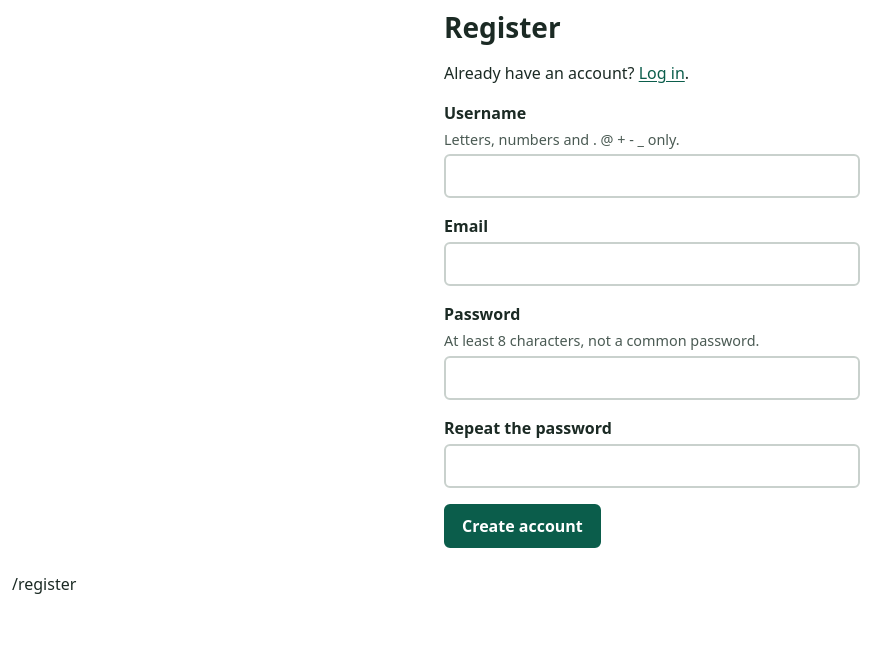
Test: Register page › says when the passwords differ, and when the password is too short
This screenshot has width=882, height=667.
Type "ronel" into the field labelled "Username" at (652, 176), box [444,154,860,198]
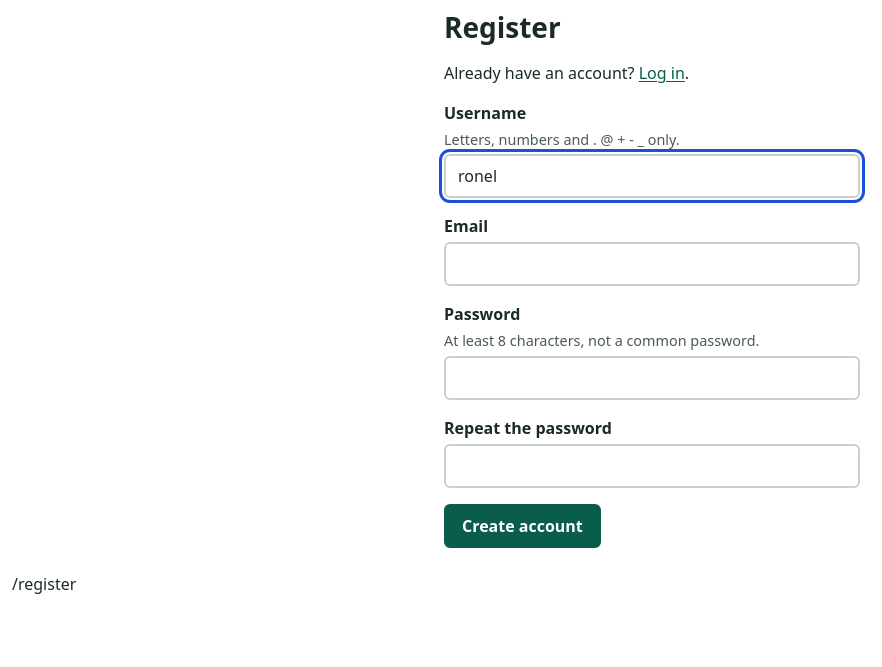
Type "ronel@example.com" into the field labelled "Email" at (652, 264), box [444,242,860,286]
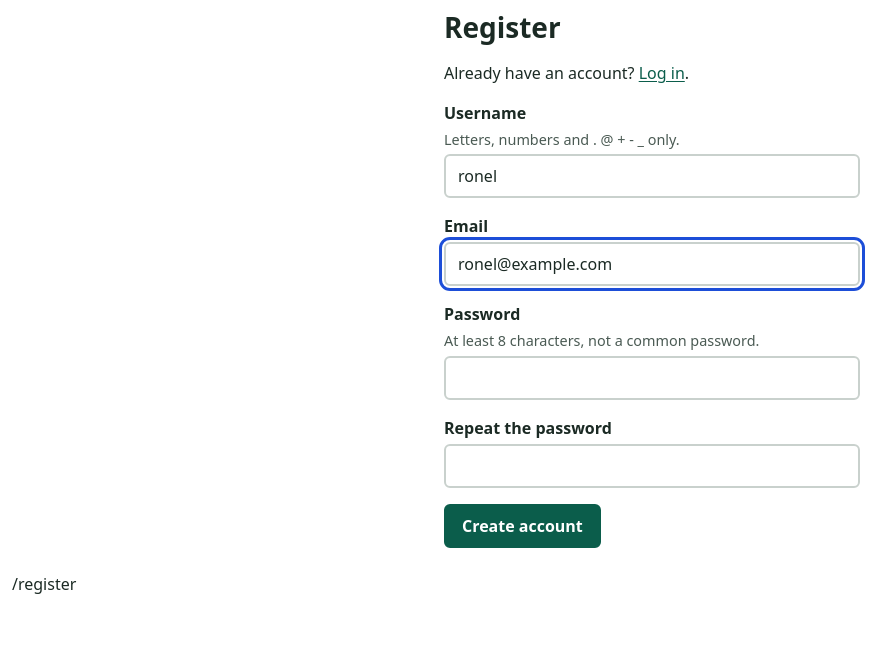
Type "short" into the password field labelled "Password" at (652, 378), box [444,356,860,400]
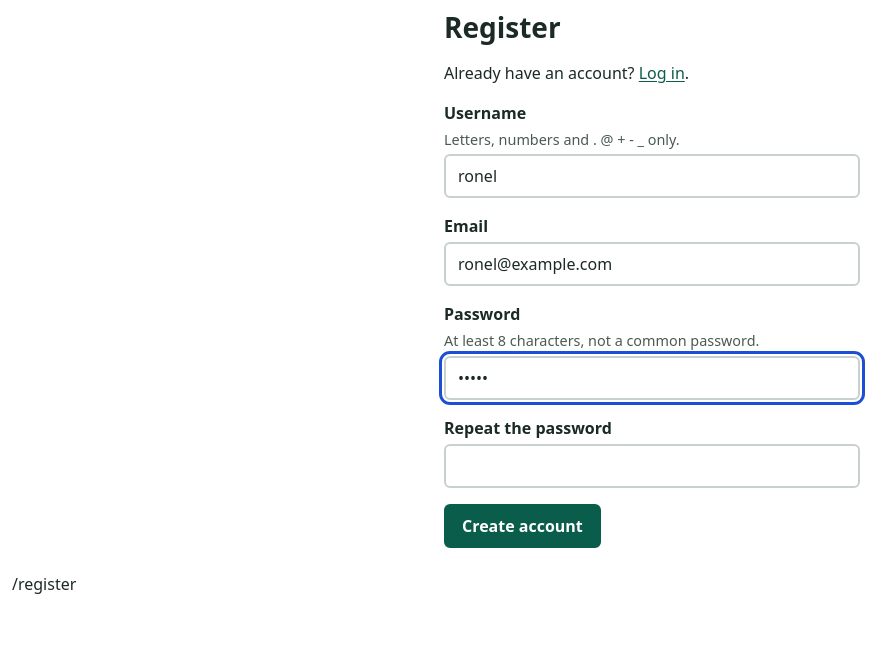
Type "other" into the password field labelled "Repeat the password" at (652, 466), box [444,444,860,488]
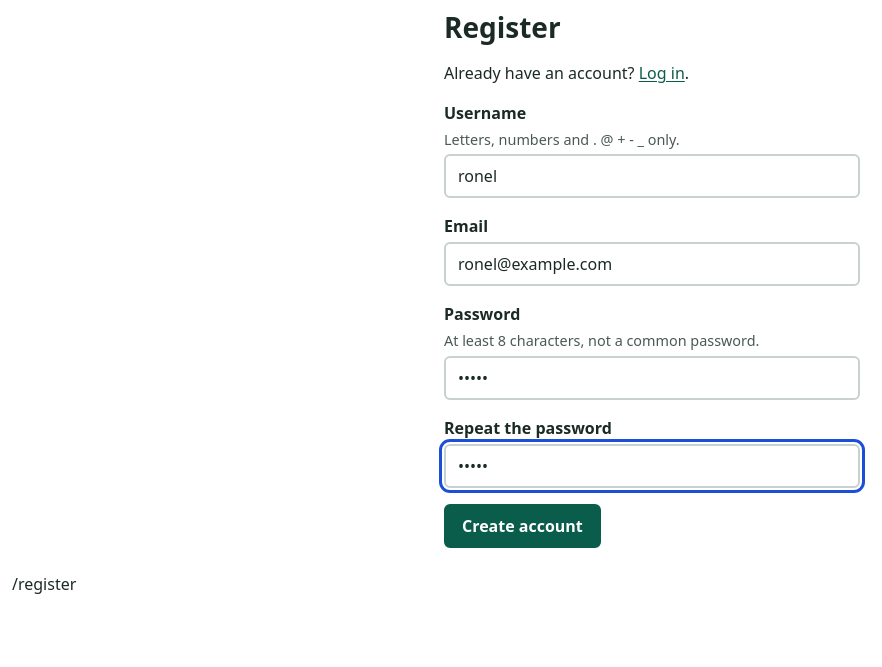
Click the button "Create account" at (522, 526), box [444,504,601,548]
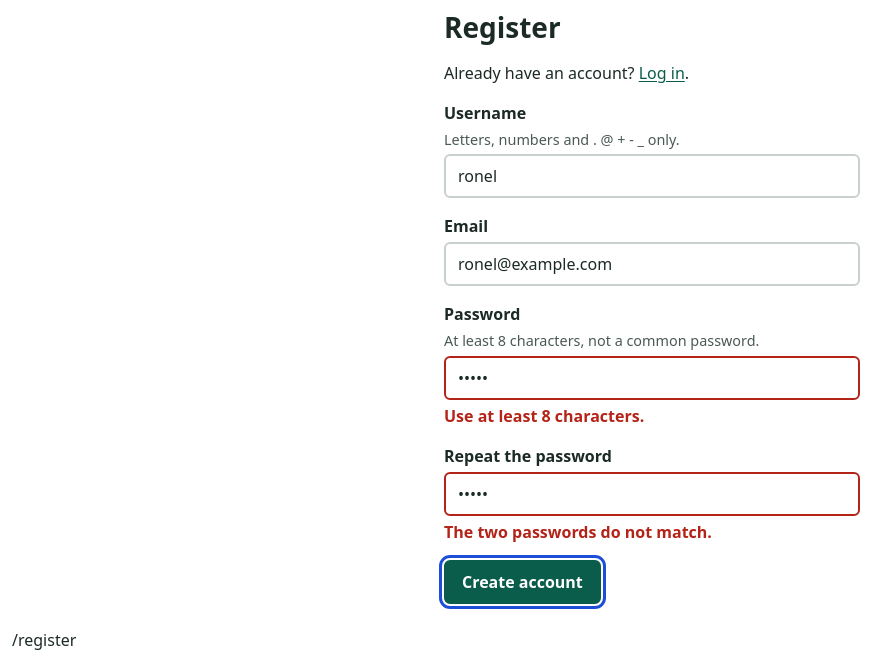
Check: the text "Use at least 8 characters." is shown, box [444,405,644,427]
Check: the text "The two passwords do not match." is shown, box [444,521,712,543]
